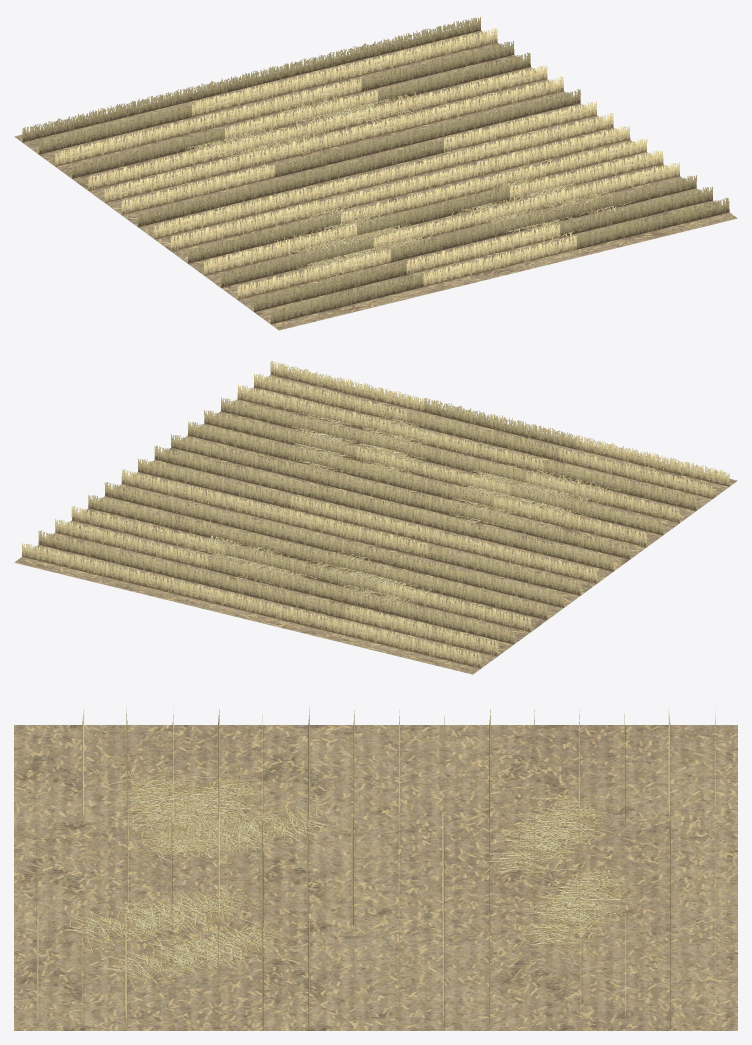
The model's file is crop_stubble_patch.glb.
3 renders of one model, top to bottom at view 1: azimuth 30°, elevation 25°; view 2: azimuth 150°, elevation 25°; view 3: azimuth 270°, elevation 25°, orthographic. The views are drawn at different scales.
Parts seen in each view (by area): view 1: crop_stubble_patch_LOD0, crop_stubble_patch_FLOOR; view 2: crop_stubble_patch_LOD0, crop_stubble_patch_FLOOR; view 3: crop_stubble_patch_FLOOR, crop_stubble_patch_LOD0.
Boxes of the visible parts, x1,y1,x2,y2 form: crop_stubble_patch_LOD0: [22, 17, 729, 324]; crop_stubble_patch_FLOOR: [14, 25, 737, 330]; crop_stubble_patch_LOD0: [22, 361, 729, 668]; crop_stubble_patch_FLOOR: [14, 370, 737, 674]; crop_stubble_patch_FLOOR: [14, 725, 737, 1030]; crop_stubble_patch_LOD0: [36, 706, 715, 1030].
Size of the model in its own units: 6 by 0.2 by 6.
2 materials, 2 textured.
